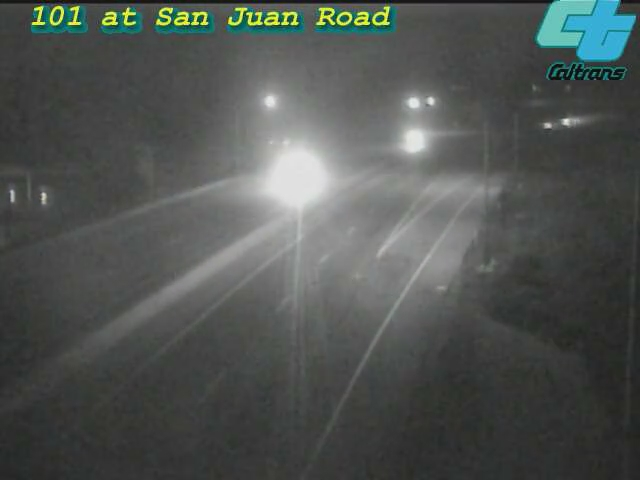vehicle: (252, 139, 332, 219), (385, 117, 435, 167), (553, 95, 603, 145), (526, 100, 576, 150)
